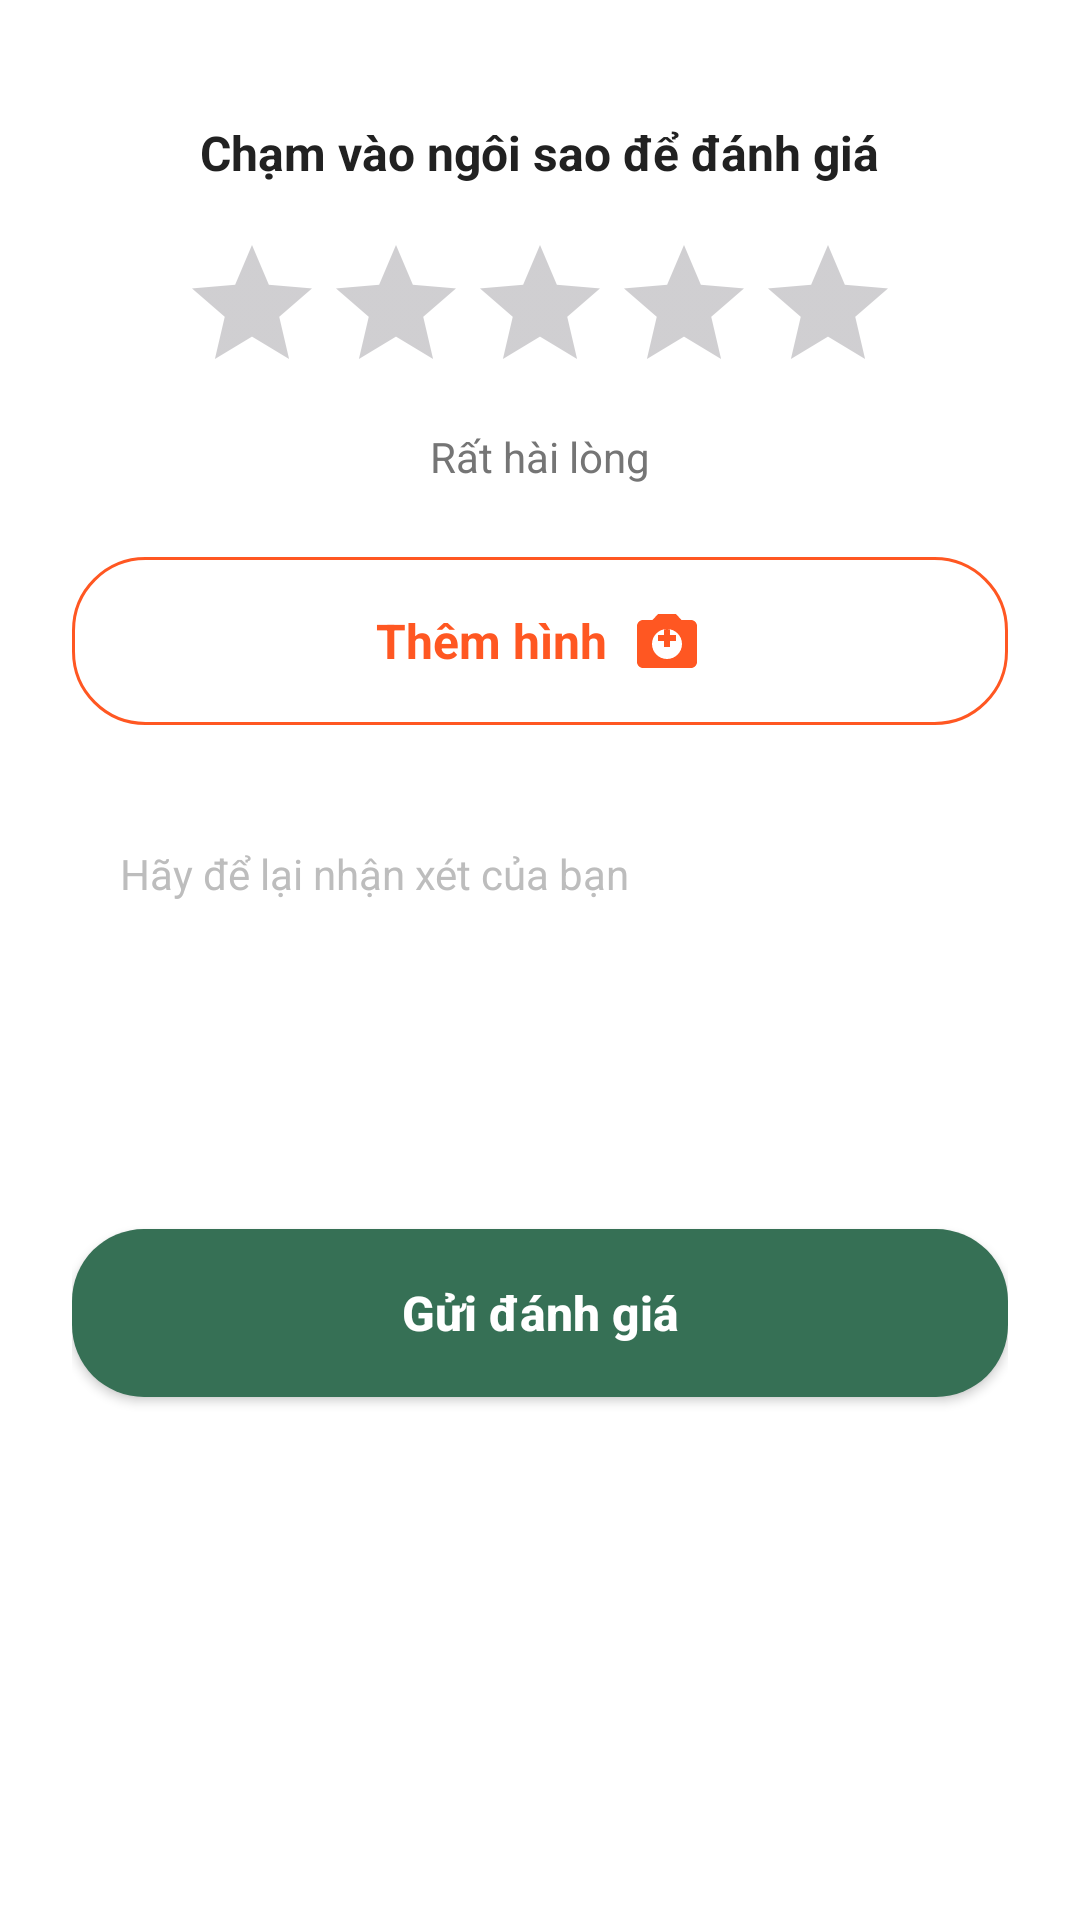

Where to tap for icons on this 1080×1920 app screen, as [x,y]:
camera add: [667,641]
